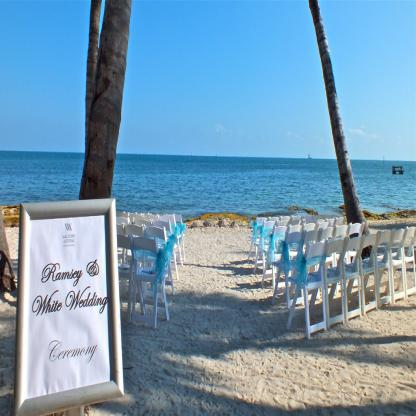Picture-frame: (15, 201, 126, 416)
